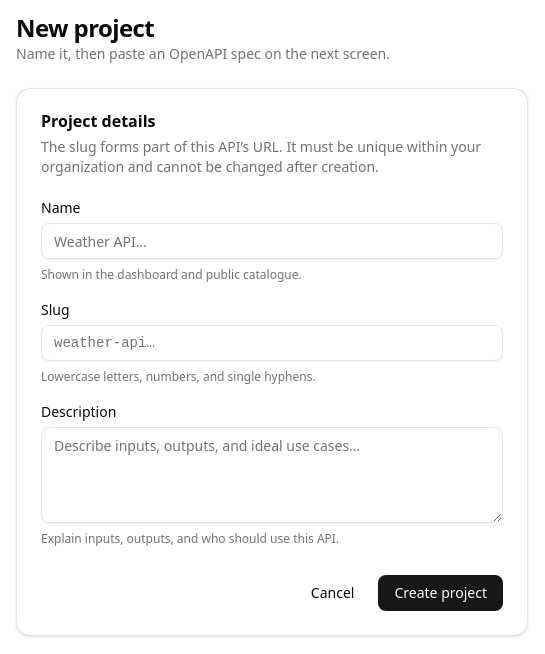
Scenario: blocks invalid slug weather- locally and focuses its error
Type "Weather API" into the field labelled "Name" at {"x": 272, "y": 241}, box top-left (41, 223), bottom-right (503, 259)
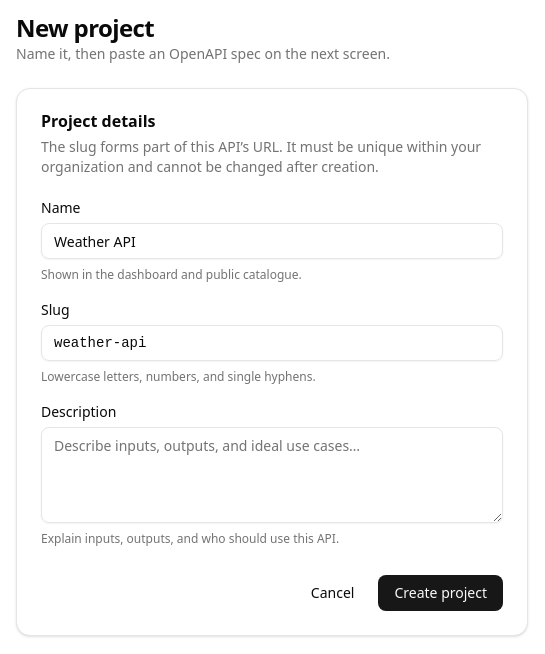
Replace the text in the field labelled "Slug" with "weather-" at {"x": 272, "y": 343}, box top-left (41, 325), bottom-right (503, 361)
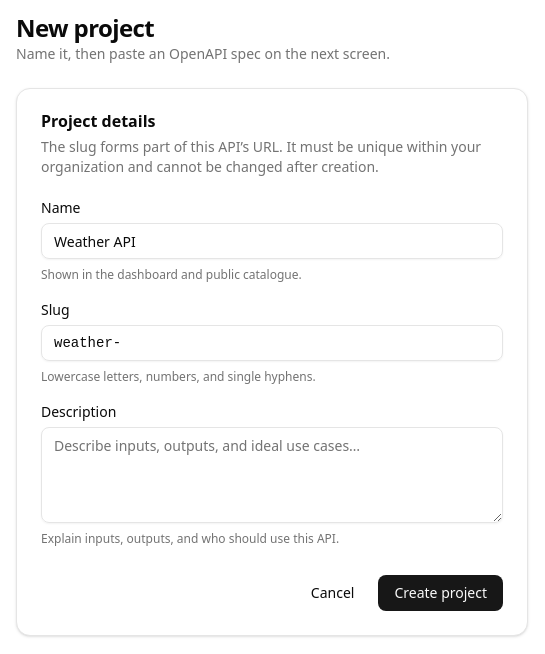
Click the button "Create project" at {"x": 441, "y": 593}, box top-left (378, 575), bottom-right (503, 611)
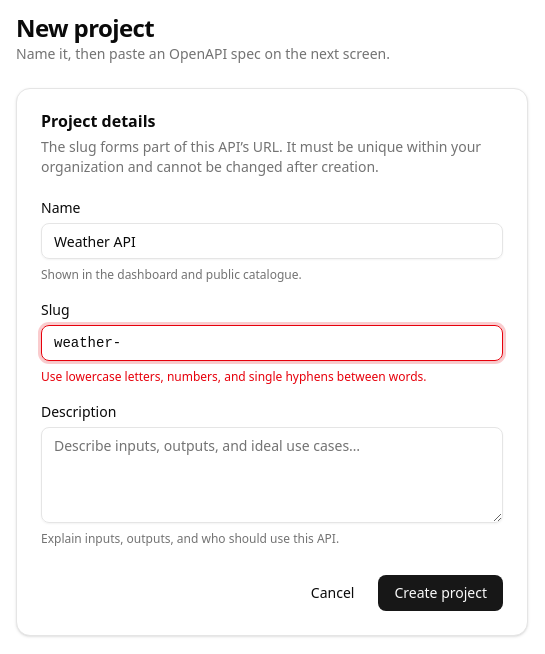
Now the text "Use lowercase letters, numbers, and single hyphens between words." is shown, box top-left (41, 368), bottom-right (426, 385)
